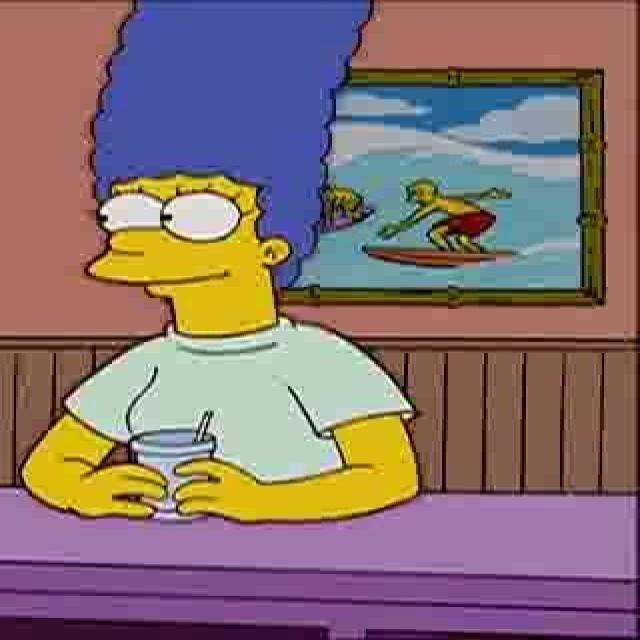Marge Simpson: (80, 1, 376, 341)
